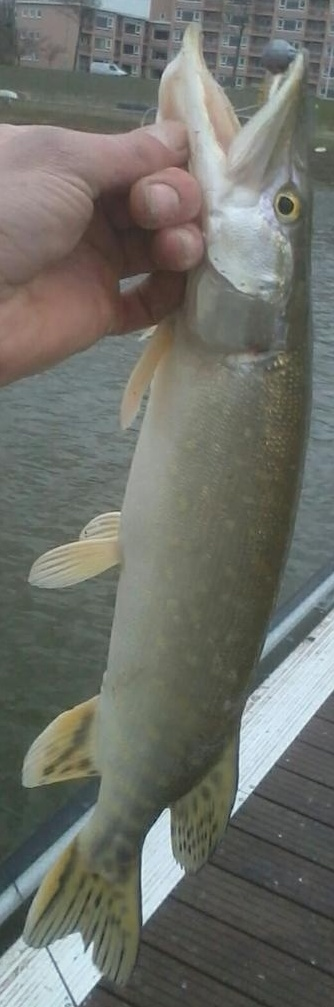Esox lucius: (20, 20, 314, 987)
